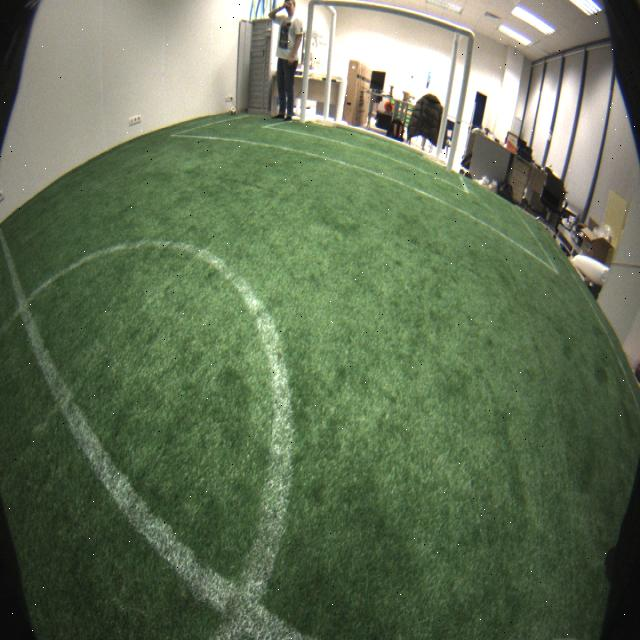goalpost: (446, 31, 478, 170), (300, 1, 315, 123)
